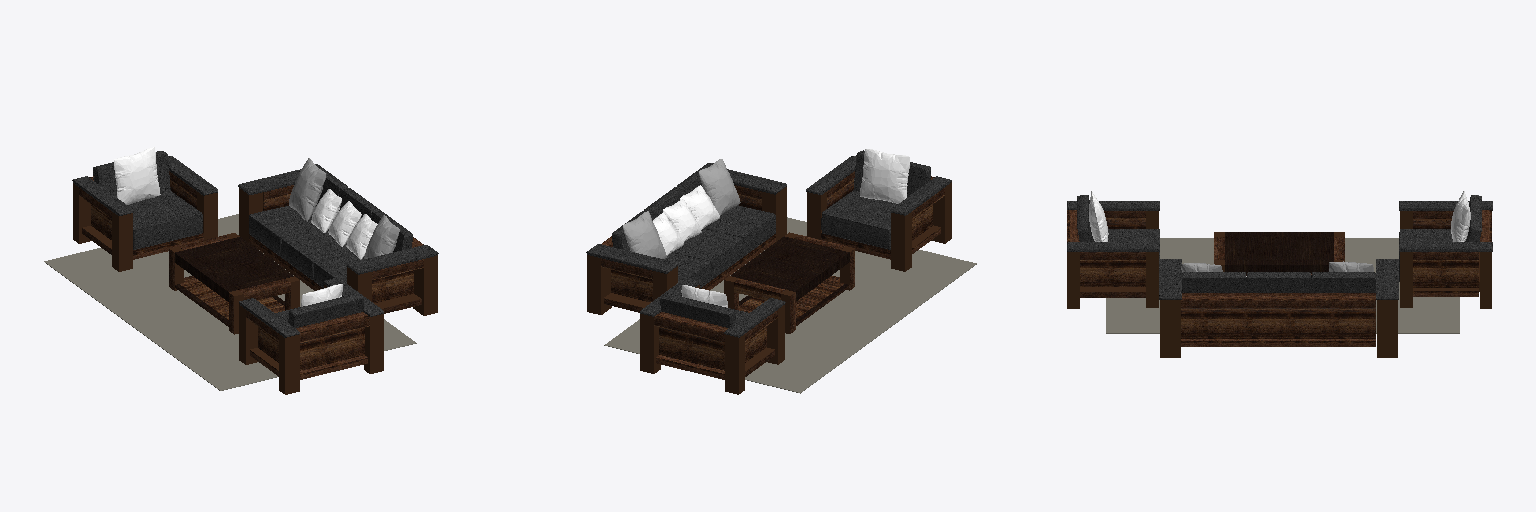
The picture shows the model from 3 angles: view 1: azimuth 30°, elevation 25°; view 2: azimuth 150°, elevation 25°; view 3: azimuth 270°, elevation 25°; orthographic projection.
Visible parts, largest first — view 1: Mesh16_Group11_Group1_Model, Mesh92_Group52_Group44_Group1_Model, Mesh10_Cushion_Bottom_1_1_Group7_Group2_Group1_Model, Mesh76_Group39_Group36_Group32_Group1_Model, Mesh14_Group9_Group2_Group1_Model, Mesh24_Group18_Group12_Group1_Model, Mesh45_Cushion_Bottom_1_7_Group27_Group12_Group1_Model, Mesh48_Cushion_Bottom_1_8_Group28_Group12_Group1_Model, Mesh22_Group16_Group12_Group1_Model, Mesh98_Cushion_Bottom_1_10_Group54_Group44_Group1_Model, Mesh25_Group19_Group12_Group1_Model, Mesh7_Group6_Group2_Group1_Model (+18 smaller); view 2: Mesh16_Group11_Group1_Model, Mesh7_Group6_Group2_Group1_Model, Mesh95_Cushion_Bottom_1_9_Group53_Group44_Group1_Model, Mesh76_Group39_Group36_Group32_Group1_Model, Mesh99_Group55_Group44_Group1_Model, Mesh42_Cushion_Bottom_1_6_Group26_Group12_Group1_Model, Mesh45_Cushion_Bottom_1_7_Group27_Group12_Group1_Model, Mesh92_Group52_Group44_Group1_Model, Mesh13_Cushion_Bottom_1_2_Group8_Group2_Group1_Model, Mesh30_Group22_Group12_Group1_Model, Mesh25_Group19_Group12_Group1_Model, Mesh84_Group46_Group45_Group44_Group1_Model (+19 smaller); view 3: Mesh24_Group18_Group12_Group1_Model, Mesh16_Group11_Group1_Model, Mesh1_Group3_Group2_Group1_Model, Mesh76_Group39_Group36_Group32_Group1_Model, Mesh90_Group50_Group44_Group1_Model, Mesh33_Cushion_Bottom_1_3_Group23_Group12_Group1_Model, Mesh36_Cushion_Bottom_1_4_Group24_Group12_Group1_Model, Mesh39_Cushion_Bottom_1_5_Group25_Group12_Group1_Model, Mesh80_Group36_Group32_Group1_Model, Mesh23_Group18_Group12_Group1_Model, Mesh92_Group52_Group44_Group1_Model, Mesh7_Group6_Group2_Group1_Model (+17 smaller).
Part boxes in pixels (bbox=[...]): Mesh16_Group11_Group1_Model: bbox=[44, 214, 416, 390]; Mesh92_Group52_Group44_Group1_Model: bbox=[279, 312, 383, 394]; Mesh10_Cushion_Bottom_1_1_Group7_Group2_Group1_Model: bbox=[128, 191, 202, 248]; Mesh76_Group39_Group36_Group32_Group1_Model: bbox=[184, 239, 284, 289]; Mesh14_Group9_Group2_Group1_Model: bbox=[114, 147, 160, 204]; Mesh24_Group18_Group12_Group1_Model: bbox=[249, 234, 437, 315]; Mesh45_Cushion_Bottom_1_7_Group27_Group12_Group1_Model: bbox=[281, 229, 352, 279]; Mesh48_Cushion_Bottom_1_8_Group28_Group12_Group1_Model: bbox=[249, 206, 319, 255]; Mesh22_Group16_Group12_Group1_Model: bbox=[347, 267, 413, 302]; Mesh98_Cushion_Bottom_1_10_Group54_Group44_Group1_Model: bbox=[288, 294, 363, 327]; Mesh25_Group19_Group12_Group1_Model: bbox=[289, 158, 325, 221]; Mesh7_Group6_Group2_Group1_Model: bbox=[73, 176, 203, 259]; Mesh16_Group11_Group1_Model: bbox=[604, 217, 976, 393]; Mesh7_Group6_Group2_Group1_Model: bbox=[640, 312, 744, 394]; Mesh95_Cushion_Bottom_1_9_Group53_Group44_Group1_Model: bbox=[821, 191, 897, 248]; Mesh76_Group39_Group36_Group32_Group1_Model: bbox=[740, 239, 839, 289]; Mesh99_Group55_Group44_Group1_Model: bbox=[860, 149, 909, 203]; Mesh42_Cushion_Bottom_1_6_Group26_Group12_Group1_Model: bbox=[705, 206, 775, 254]; Mesh45_Cushion_Bottom_1_7_Group27_Group12_Group1_Model: bbox=[674, 229, 743, 278]; Mesh92_Group52_Group44_Group1_Model: bbox=[821, 176, 951, 259]; Mesh13_Cushion_Bottom_1_2_Group8_Group2_Group1_Model: bbox=[660, 293, 735, 327]; Mesh30_Group22_Group12_Group1_Model: bbox=[699, 159, 740, 215]; Mesh25_Group19_Group12_Group1_Model: bbox=[623, 211, 666, 259]; Mesh84_Group46_Group45_Group44_Group1_Model: bbox=[891, 212, 911, 271]; Mesh24_Group18_Group12_Group1_Model: bbox=[1160, 293, 1375, 357]; Mesh16_Group11_Group1_Model: bbox=[1106, 238, 1459, 333]; Mesh1_Group3_Group2_Group1_Model: bbox=[1400, 252, 1478, 307]; Mesh76_Group39_Group36_Group32_Group1_Model: bbox=[1225, 237, 1333, 259]; Mesh90_Group50_Group44_Group1_Model: bbox=[1080, 261, 1145, 286]; Mesh33_Cushion_Bottom_1_3_Group23_Group12_Group1_Model: bbox=[1311, 272, 1375, 292]; Mesh36_Cushion_Bottom_1_4_Group24_Group12_Group1_Model: bbox=[1246, 272, 1310, 292]; Mesh39_Cushion_Bottom_1_5_Group25_Group12_Group1_Model: bbox=[1182, 272, 1245, 292]; Mesh80_Group36_Group32_Group1_Model: bbox=[1225, 260, 1333, 273]; Mesh23_Group18_Group12_Group1_Model: bbox=[1377, 300, 1397, 357]; Mesh92_Group52_Group44_Group1_Model: bbox=[1067, 210, 1079, 308]; Mesh7_Group6_Group2_Group1_Model: bbox=[1479, 210, 1491, 308].
Size of the model in its own units: 42.71 by 14.14 by 64.48.
Materials: 8 (3 with a texture image).